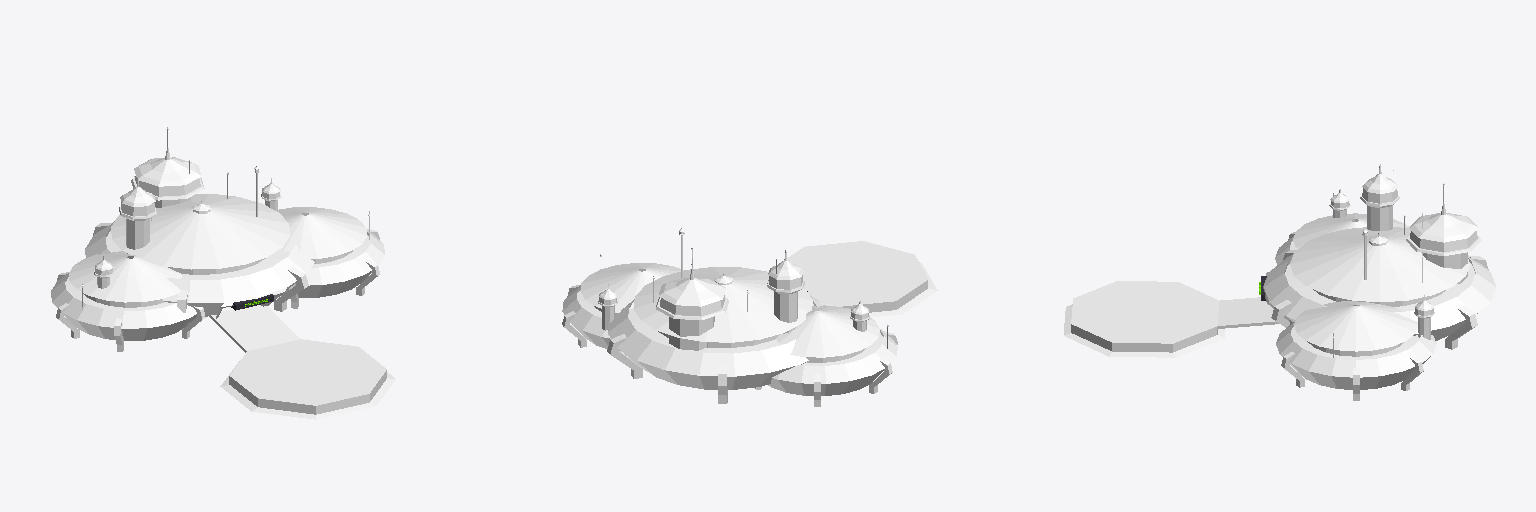
The model's file is cargo platform.obj.
3 views of the same model, side by side, from view 1: azimuth 30°, elevation 25°; view 2: azimuth 150°, elevation 25°; view 3: azimuth 270°, elevation 25° (orthographic).
Visible parts, largest first — view 1: platform; view 2: platform; view 3: platform.
Boxes of the visible parts, <box> form: platform: <box>51,127,395,419</box>; platform: <box>562,228,937,406</box>; platform: <box>1064,164,1495,400</box>.
Size of the model in its own units: 474 by 208 by 552.